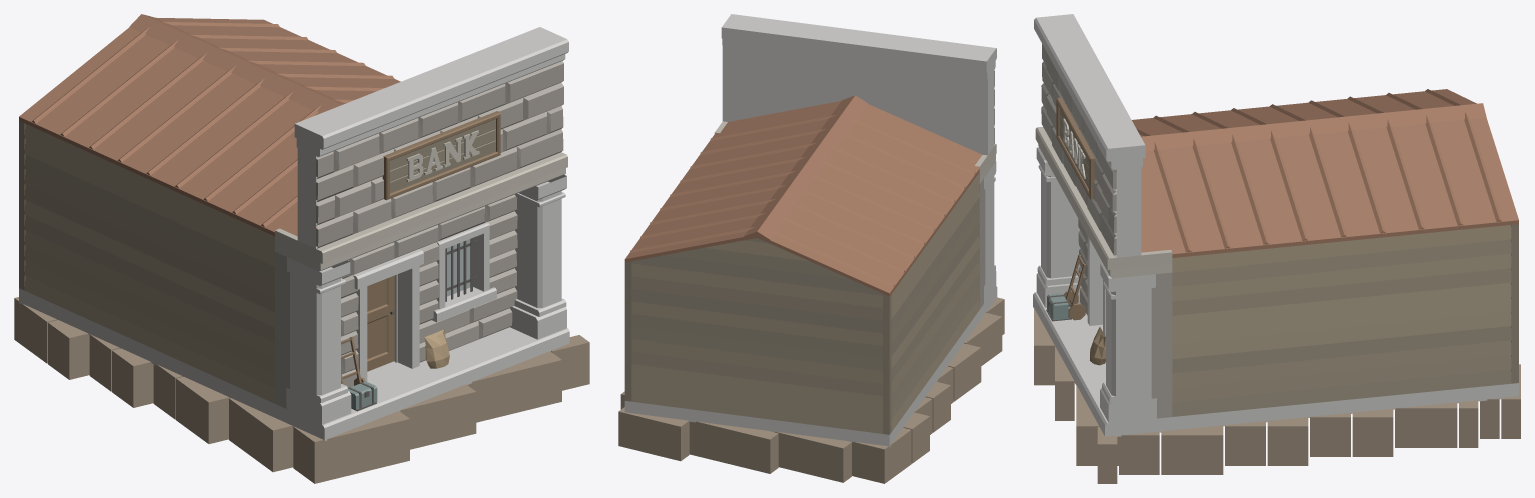
Rendered from house_0.glb.
The picture shows the model from 3 angles, left to right: view 1: azimuth 30°, elevation 25°; view 2: azimuth 150°, elevation 25°; view 3: azimuth 270°, elevation 25°; orthographic projection. The views are drawn at different scales.
Visible parts, largest first — view 1: house_0; view 2: house_0; view 3: house_0.
Part boxes in pixels (x1,y1,x2,y2): house_0: [14, 14, 589, 483]; house_0: [618, 14, 1004, 483]; house_0: [1033, 14, 1520, 483].
Bounding box in the file's own units: 9.98 × 8.5 × 11.48.
